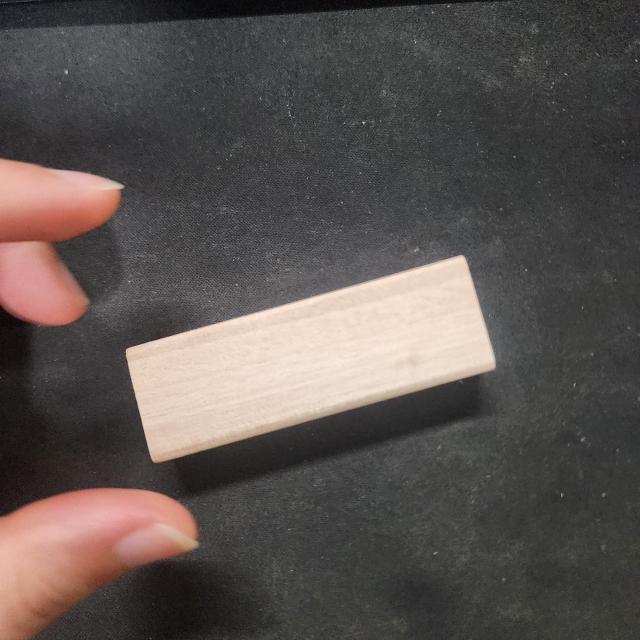wood: (124, 254, 497, 463)
